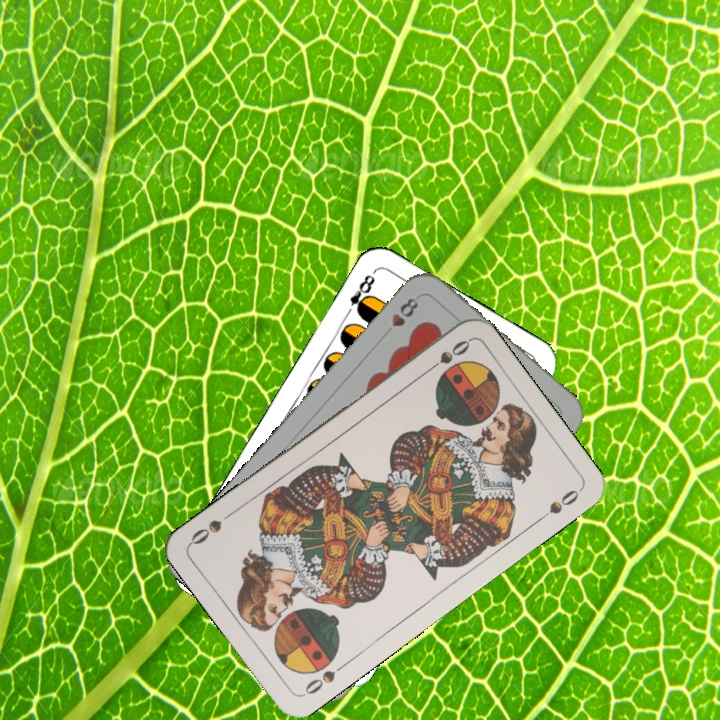E8: (341, 270, 378, 320)
H8: (387, 293, 421, 330)
SO: (421, 335, 473, 376), (299, 658, 350, 699)
